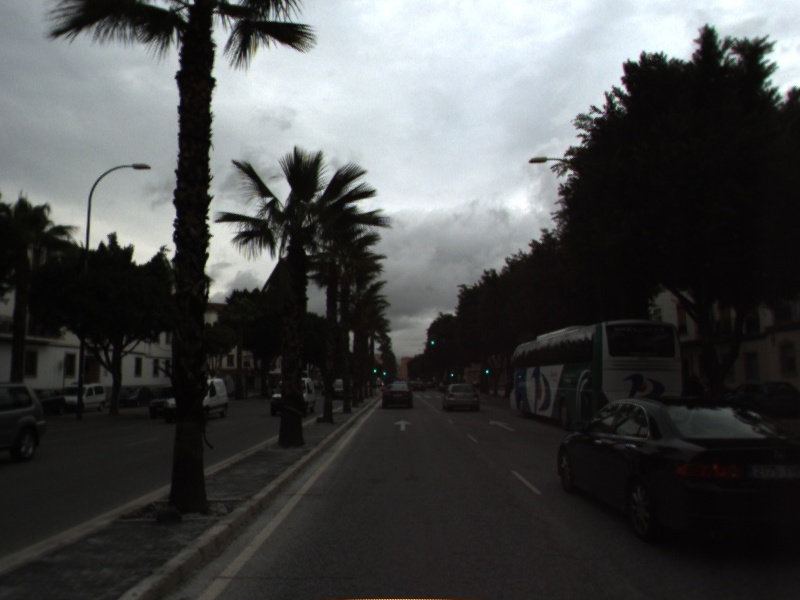STRAIGHT: (487, 417, 517, 433), (391, 417, 415, 433)
